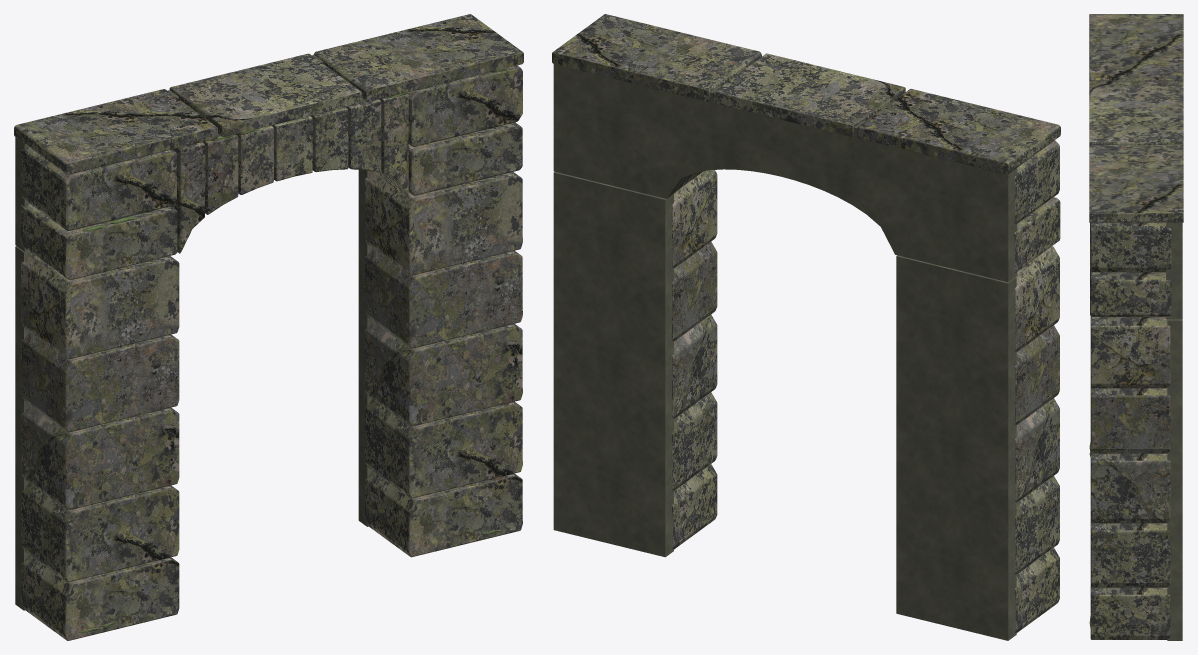
The model's file is mod_sacred_arch_4m.glb.
3 renders of one model, left to right at view 1: azimuth 30°, elevation 25°; view 2: azimuth 150°, elevation 25°; view 3: azimuth 270°, elevation 25°, orthographic. The views are drawn at different scales.
Visible parts, largest first — view 1: sacred_weathered_stone_surface, sacred_earth_mortar_surface; view 2: sacred_earth_mortar_surface, sacred_weathered_stone_surface; view 3: sacred_weathered_stone_surface, sacred_earth_mortar_surface.
Boxes of the visible parts, left/top/right/bottom form: sacred_weathered_stone_surface: left=14, top=14, right=523, bottom=640; sacred_earth_mortar_surface: left=15, top=55, right=372, bottom=610; sacred_earth_mortar_surface: left=553, top=64, right=1017, bottom=640; sacred_weathered_stone_surface: left=552, top=14, right=1060, bottom=632; sacred_weathered_stone_surface: left=1089, top=14, right=1183, bottom=639; sacred_earth_mortar_surface: left=1166, top=144, right=1182, bottom=640.
Bounding box in the file's own units: 4 × 4 × 0.8.
Materials: 4 (4 with a texture image).
